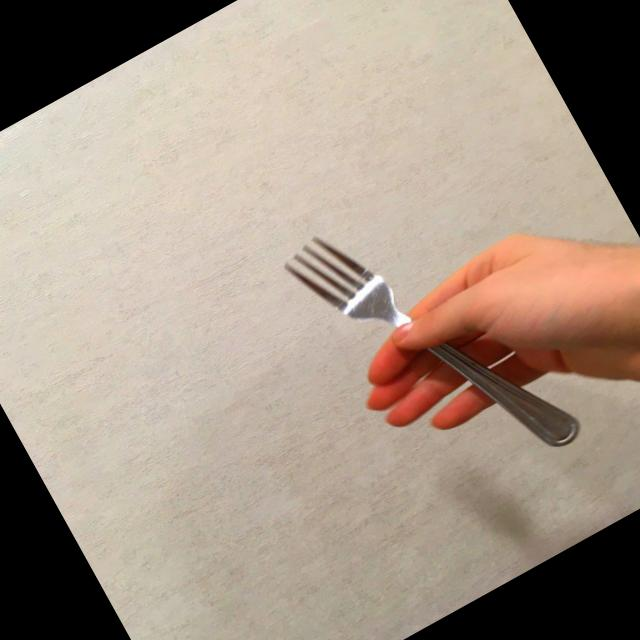fork: (278, 168, 586, 522)
